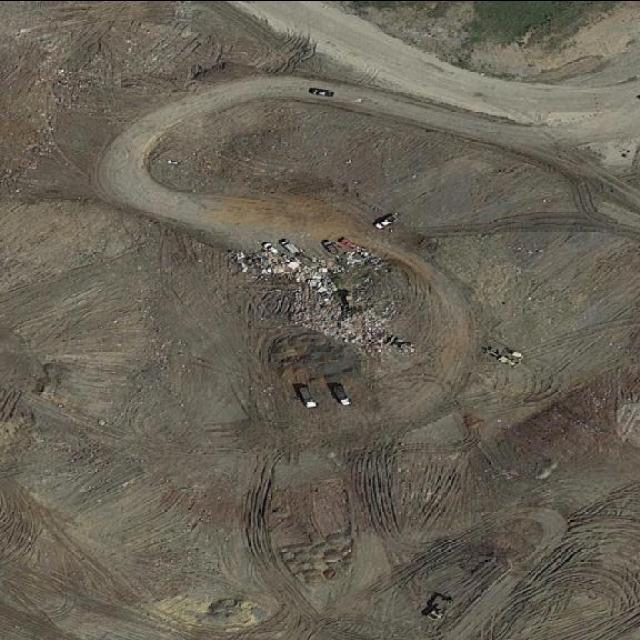dump_site: (261, 262, 415, 358)
